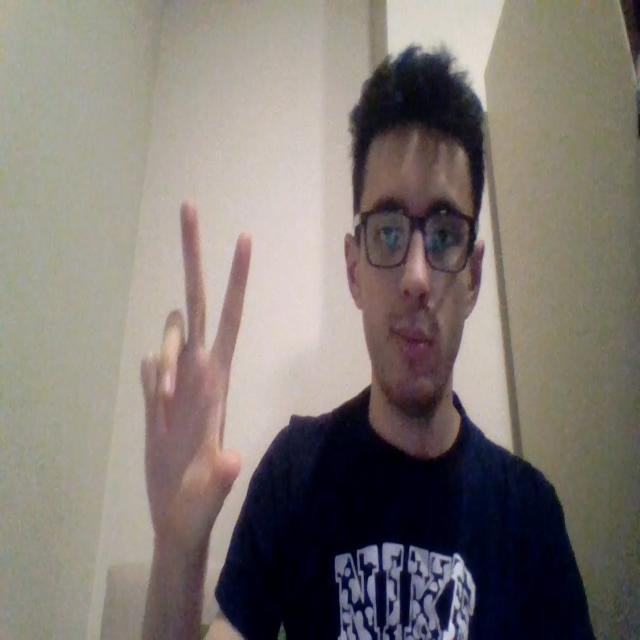no: (134, 194, 256, 562)
